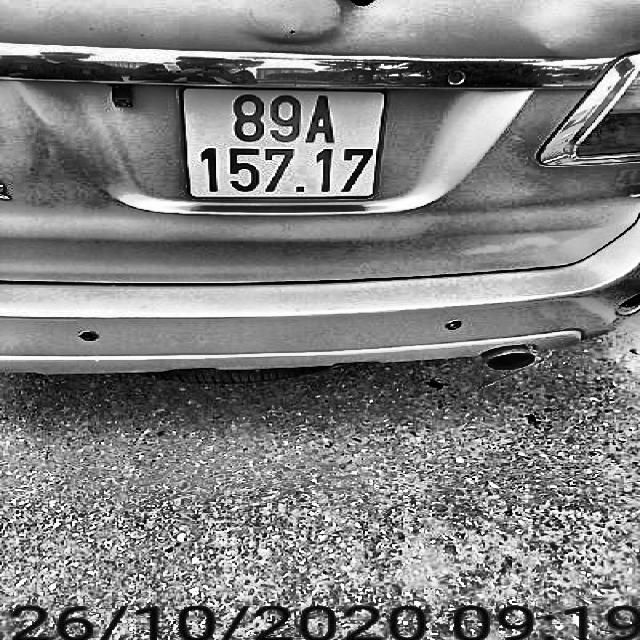plate: (168, 79, 394, 211)
